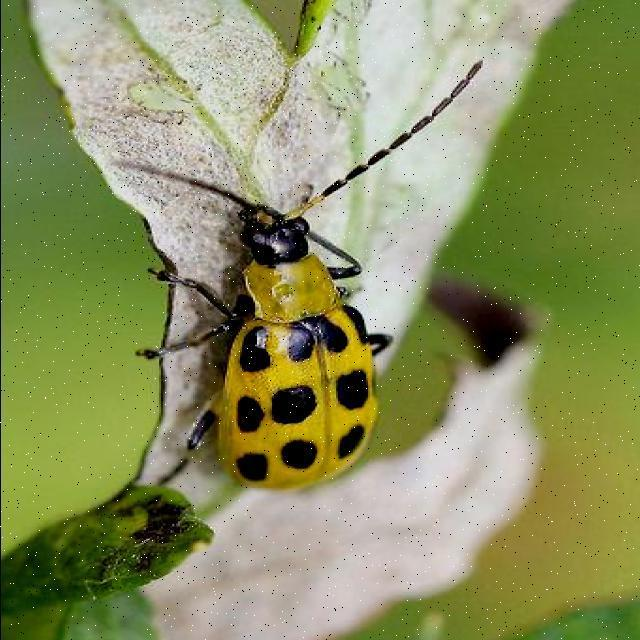gusano_verde: (134, 54, 484, 568)
